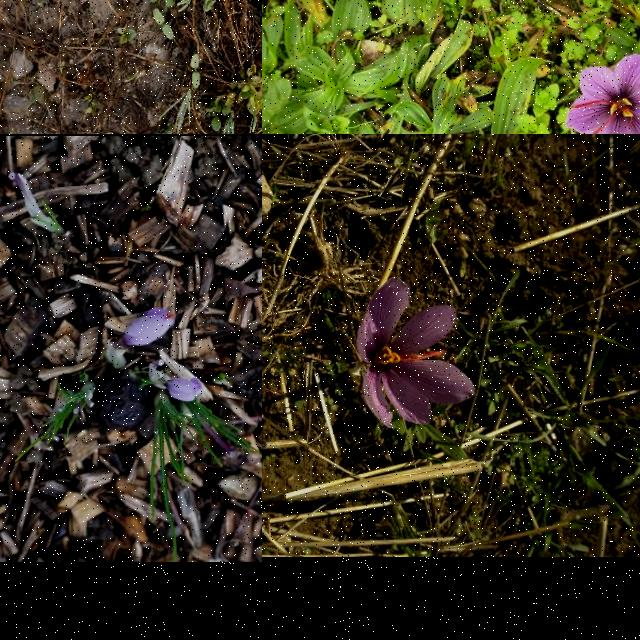flower: (356, 276, 476, 429), (565, 52, 640, 134), (122, 306, 176, 348), (167, 378, 205, 402)
